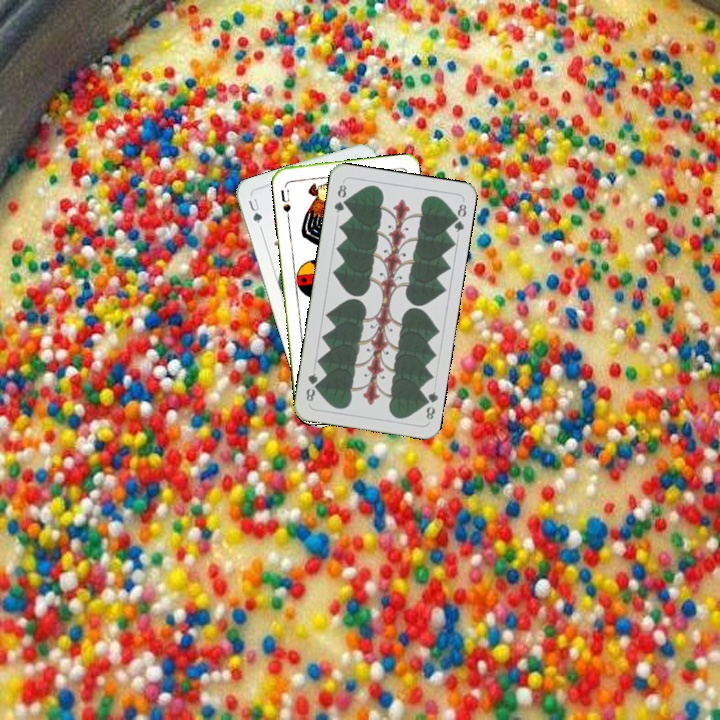G8: (419, 387, 441, 422), (330, 180, 349, 215)
GU: (244, 194, 265, 226)
SU: (277, 186, 293, 221)
